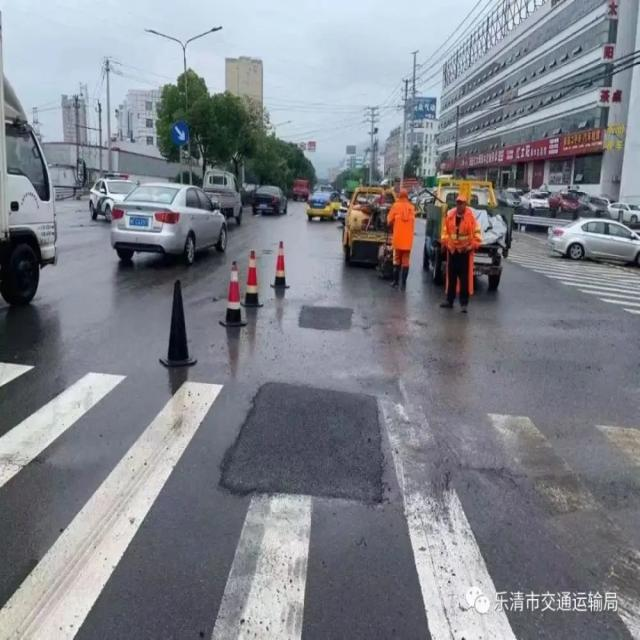Pothole: (221, 378, 399, 509), (292, 300, 359, 336)
